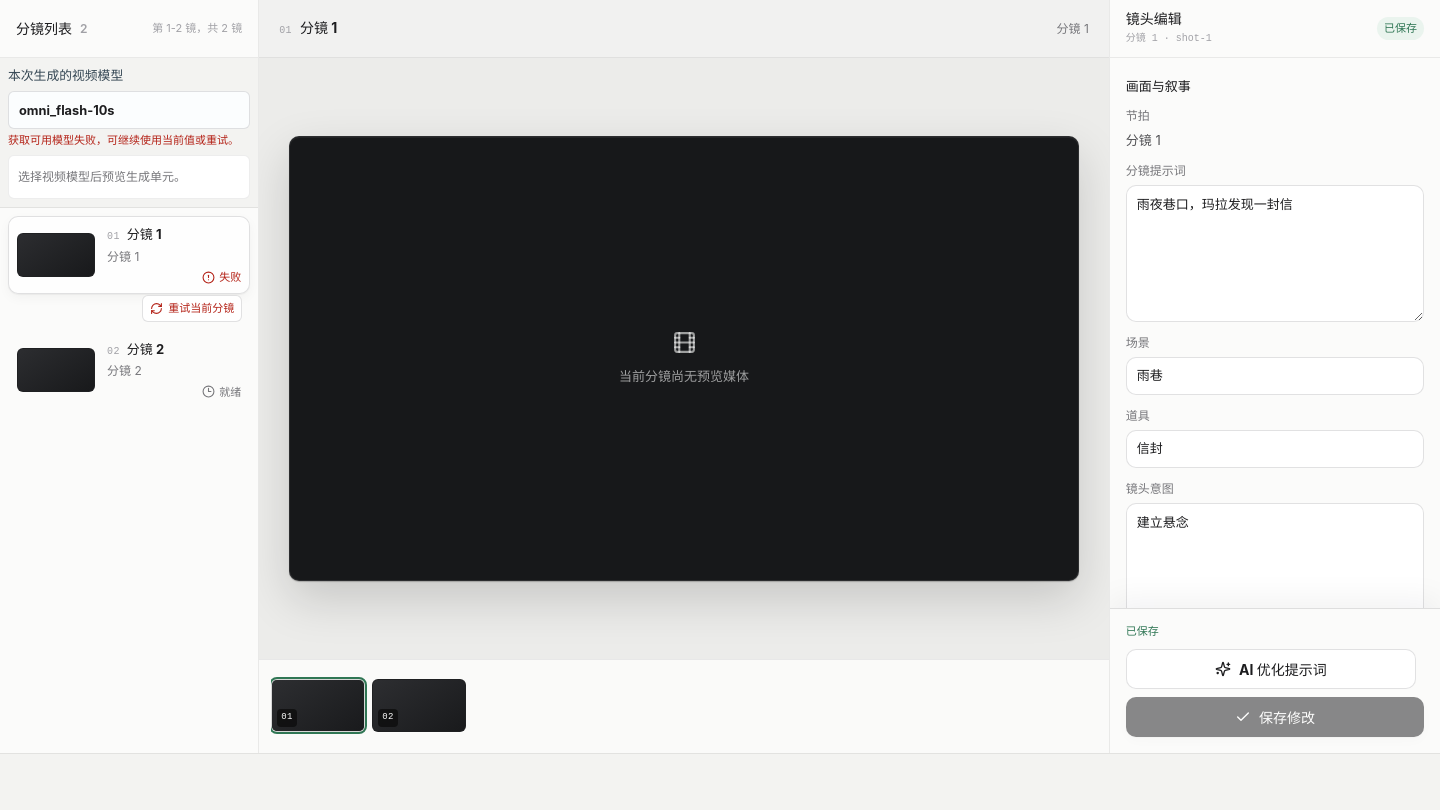
Scenario: StoryboardPage › keeps failed items out of new batches and retries only that persisted item
Click the button "重试当前分镜": point(192, 309) [142,295,242,322]
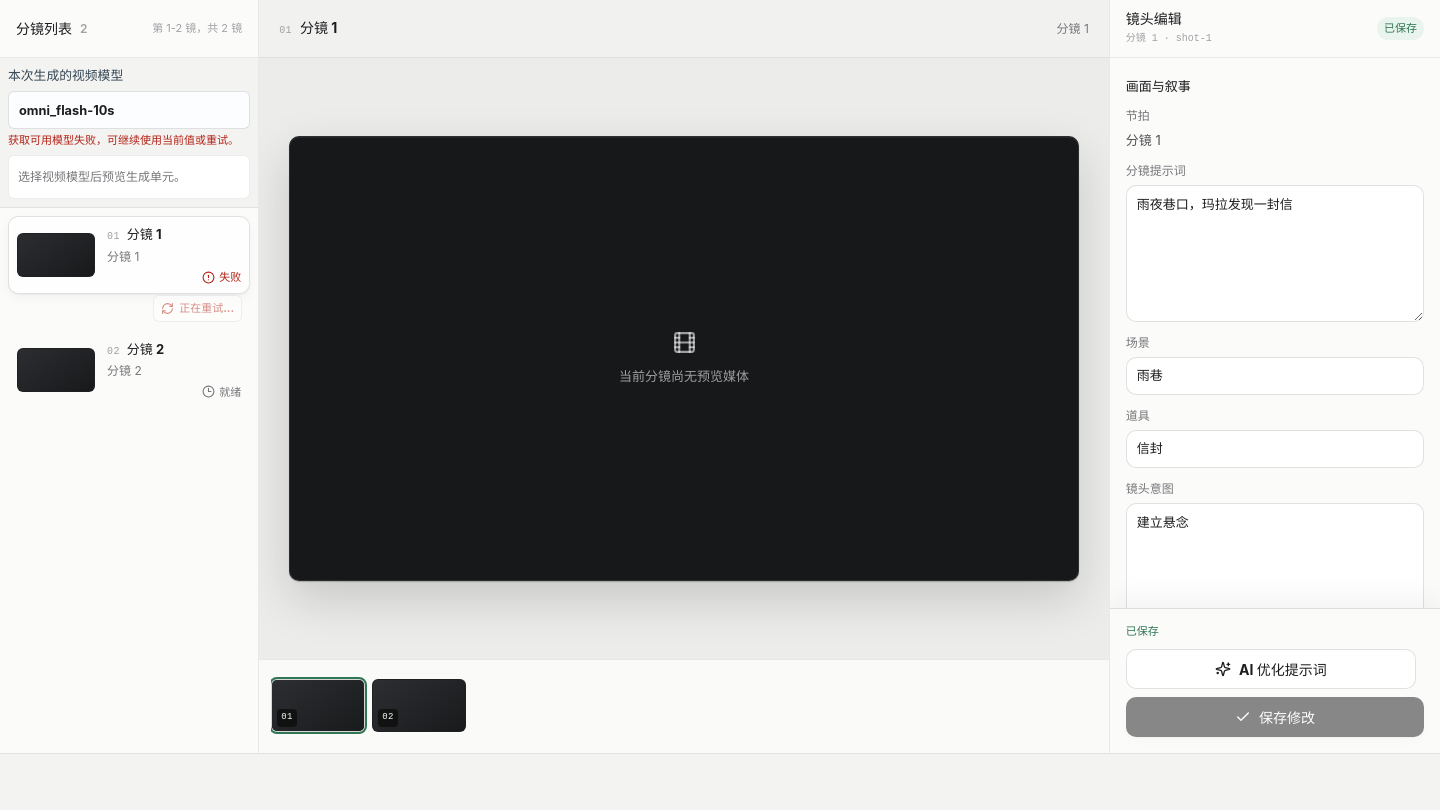
Click the button named "重试当前分镜": point(198, 309) [153,295,242,322]
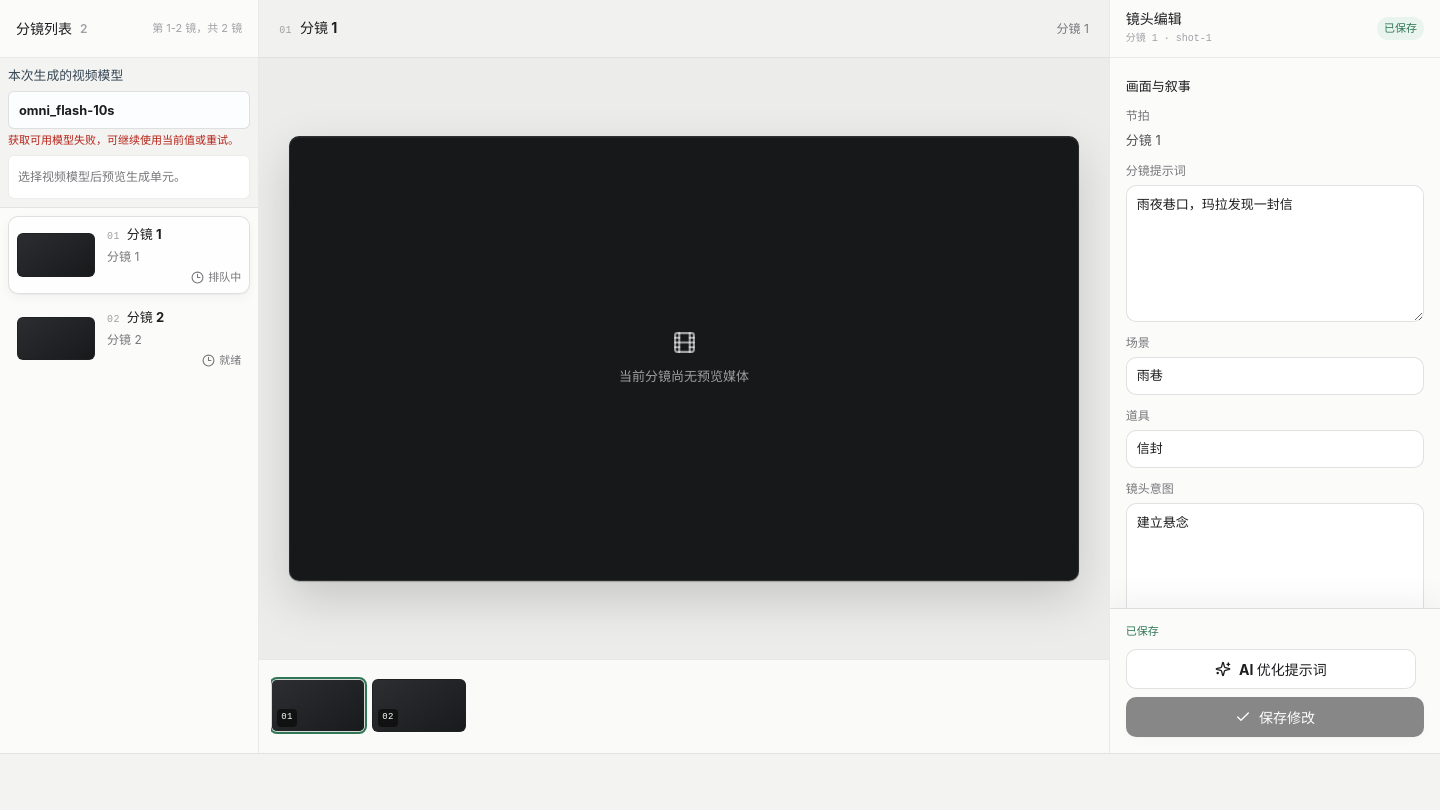
Expected: the text "排队中" is shown, [208,269,241,285]
